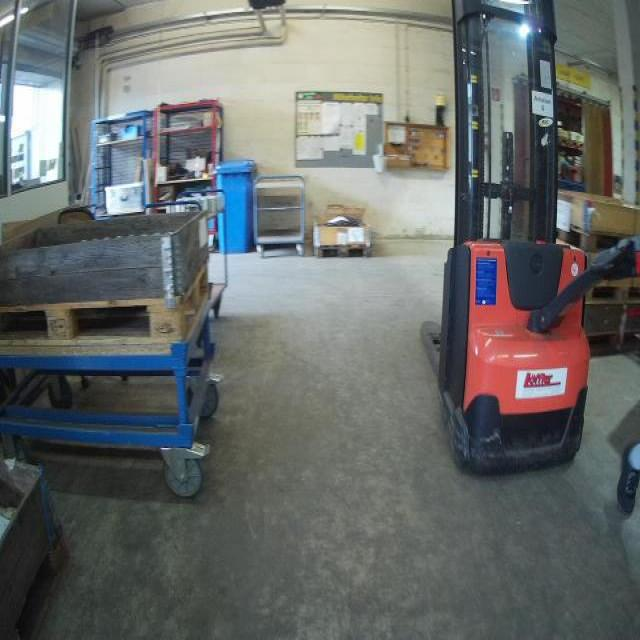pallet: (0, 257, 211, 348), (557, 222, 639, 255), (585, 278, 640, 307), (313, 242, 373, 260)
pallet_truck: (421, 1, 598, 494)
